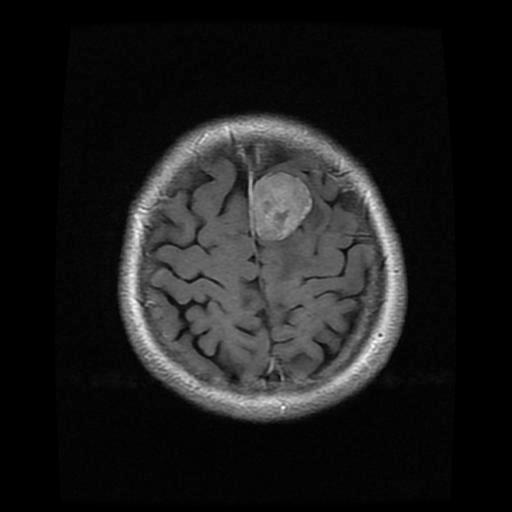Tumour-Meningioma: (236, 159, 324, 262)
